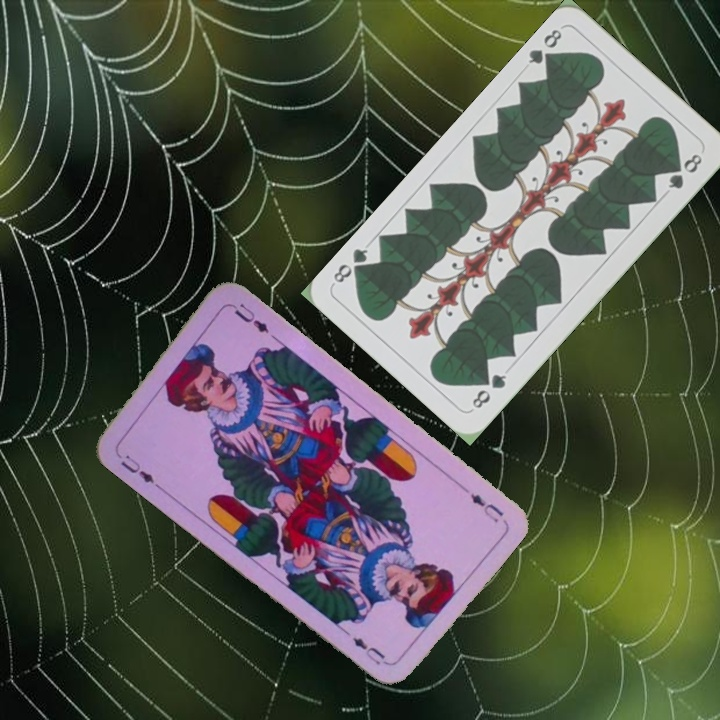EU: (466, 489, 506, 525), (116, 451, 157, 486)
G8: (524, 24, 565, 70), (467, 370, 509, 411)
